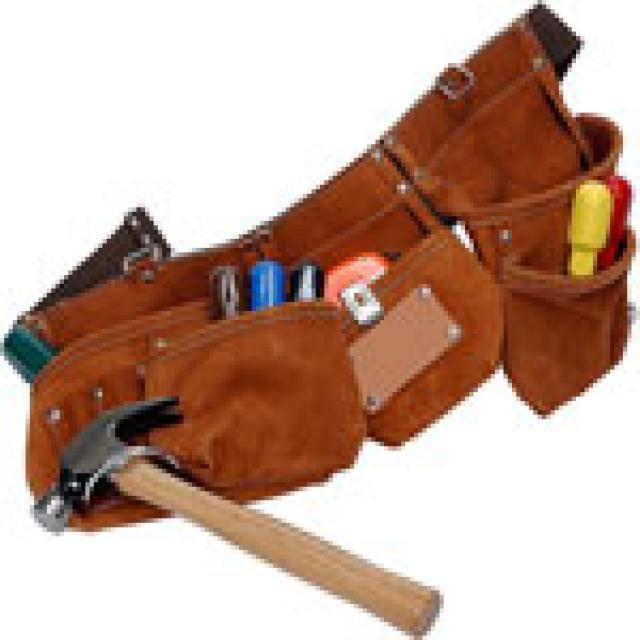hammer: (18, 388, 453, 640)
